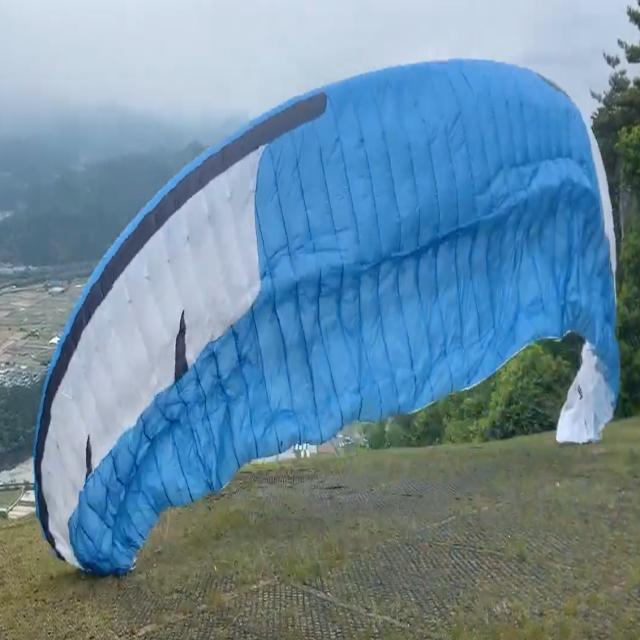paraglider: (32, 56, 620, 577)
